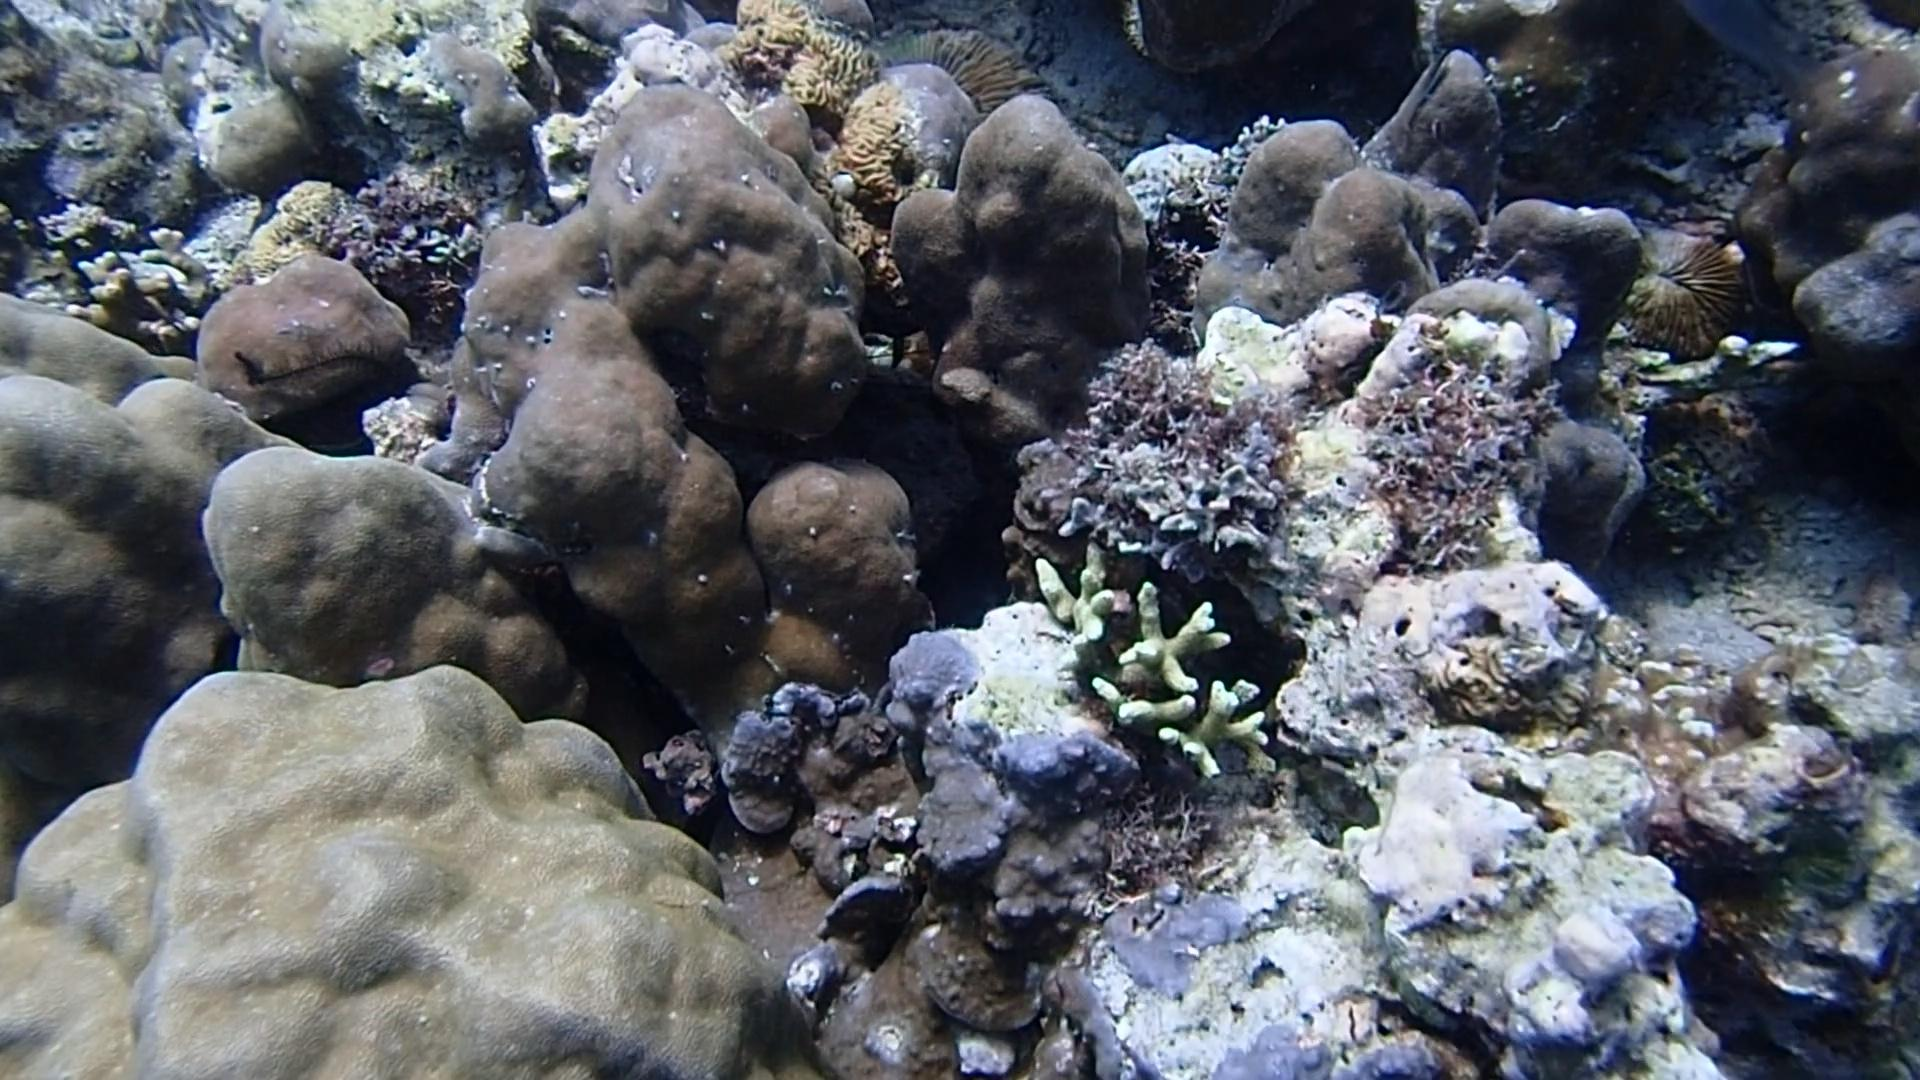Blue Fish Two: (1679, 0, 1815, 95)
